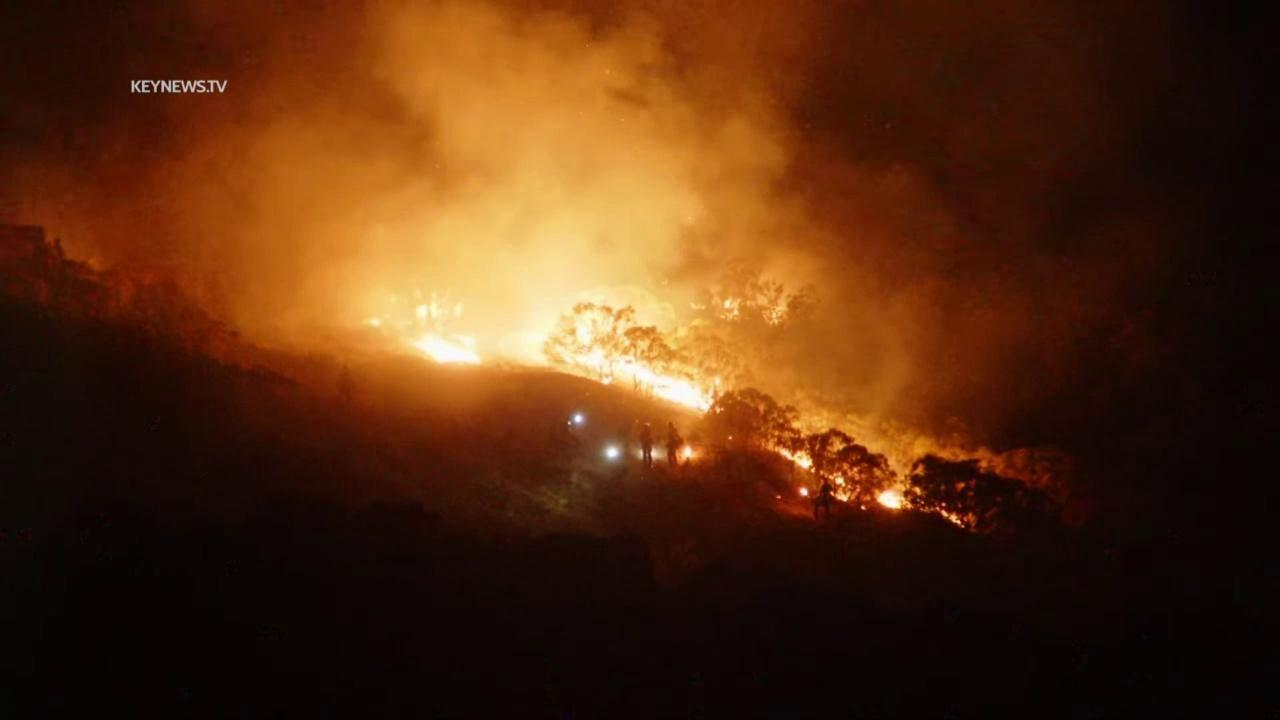fire: (507, 287, 725, 415), (406, 299, 483, 365), (759, 429, 816, 474), (819, 463, 855, 504), (876, 487, 922, 512), (936, 501, 967, 529), (719, 297, 746, 323), (367, 316, 380, 329), (683, 445, 694, 459), (798, 487, 809, 497), (859, 504, 869, 513)
smoke: (146, 5, 1162, 485)
